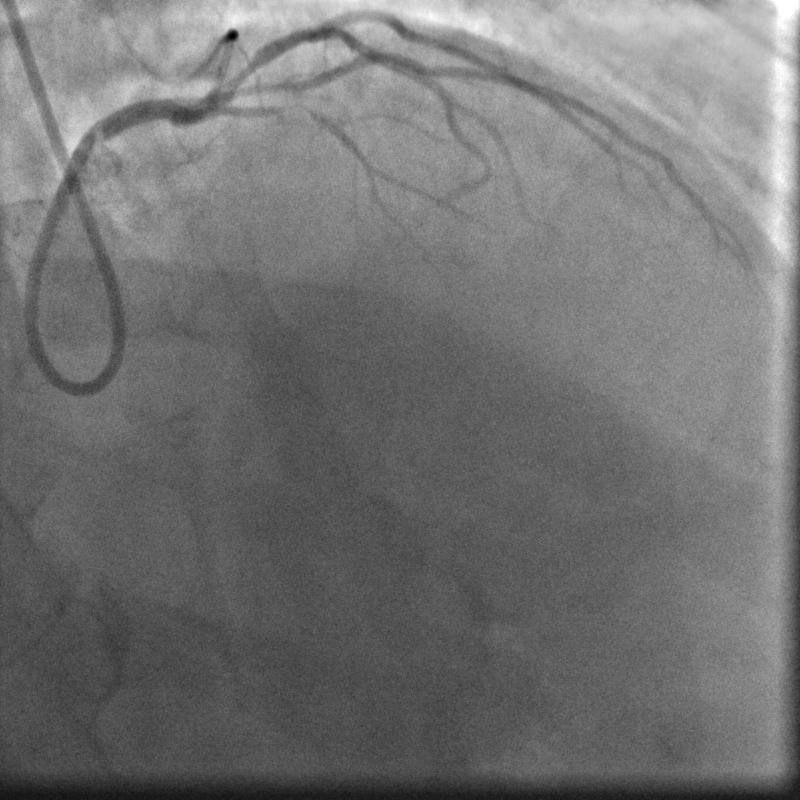Stenosis: (228, 56, 265, 80)
